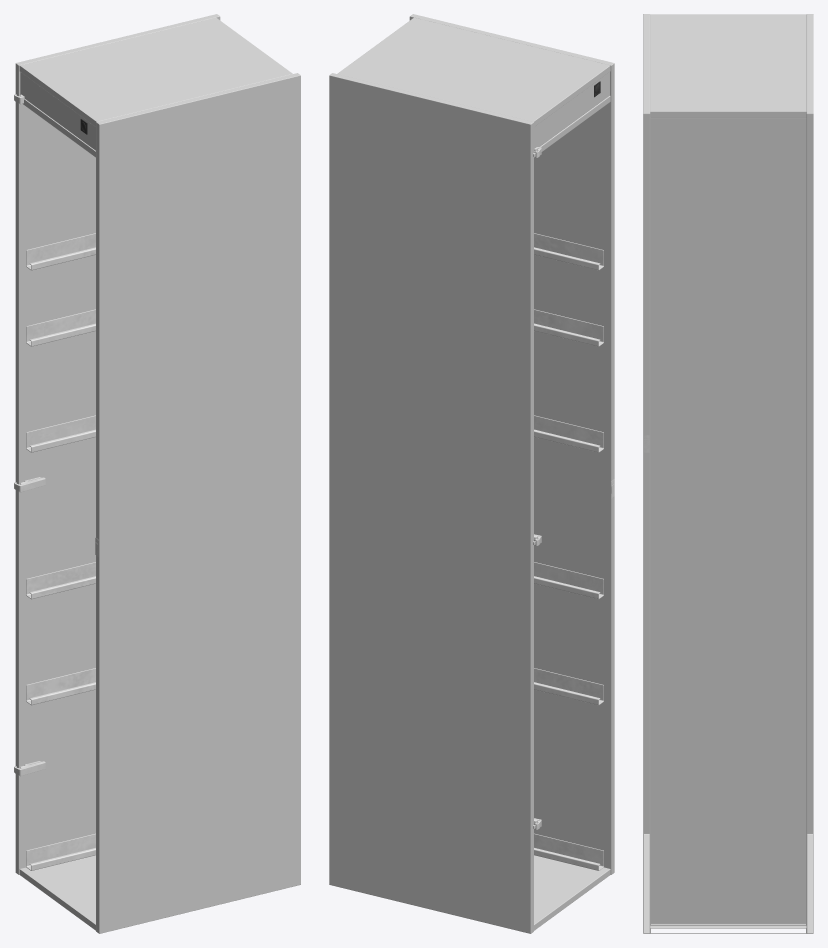
File: SM_Kitchen_02_Base.dae
3 views of the same model, side by side, from view 1: azimuth 30°, elevation 25°; view 2: azimuth 150°, elevation 25°; view 3: azimuth 270°, elevation 25° (orthographic).
Parts seen in each view (by area): view 1: SM_Kitchen_02_Base; view 2: SM_Kitchen_02_Base; view 3: SM_Kitchen_02_Base.
Boxes of the visible parts, left/top/right/bottom form: SM_Kitchen_02_Base: left=14, top=14, right=300, bottom=933; SM_Kitchen_02_Base: left=329, top=14, right=614, bottom=933; SM_Kitchen_02_Base: left=643, top=14, right=813, bottom=933.
Size of the model in its own units: 0.5667 by 0.4 by 2.13.
3 materials, 3 textured.
